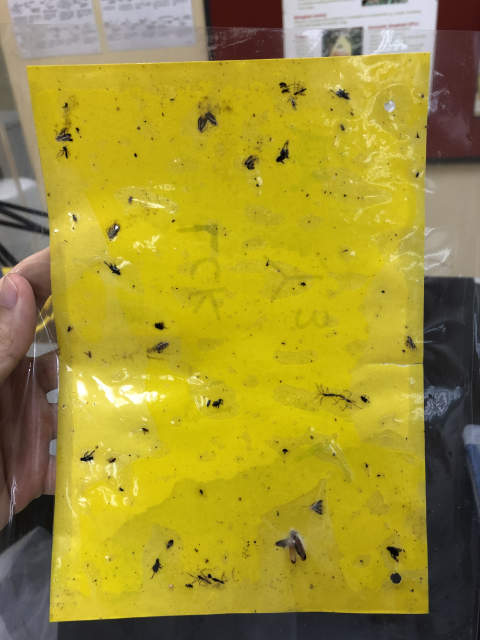DBM: (51, 126, 75, 144), (304, 497, 325, 517), (203, 109, 220, 132), (152, 339, 170, 355), (196, 113, 209, 135)
